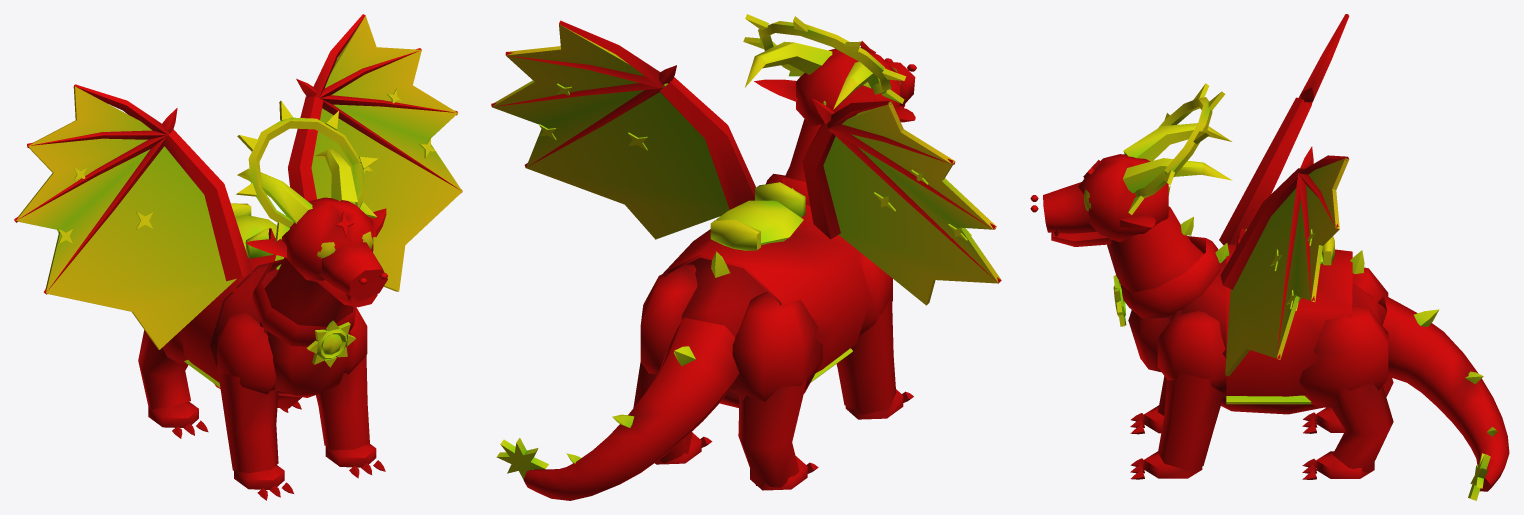
File: Dragon_LOD1.glb
The picture shows the model from 3 angles, left to right: view 1: azimuth 30°, elevation 25°; view 2: azimuth 150°, elevation 25°; view 3: azimuth 270°, elevation 25°; orthographic projection. The views are drawn at different scales.
Visible parts, largest first — view 1: Dragon_LOD1; view 2: Dragon_LOD1; view 3: Dragon_LOD1.
Boxes of the visible parts, x1,y1,x2,y2 form: Dragon_LOD1: (14,14,462,500); Dragon_LOD1: (491,14,1001,500); Dragon_LOD1: (1030,14,1509,500).
Bounding box in the file's own units: 2.77 × 2.15 × 2.55.
